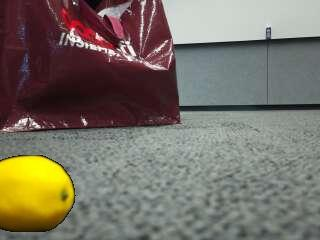lemon: (0, 155, 73, 231)
